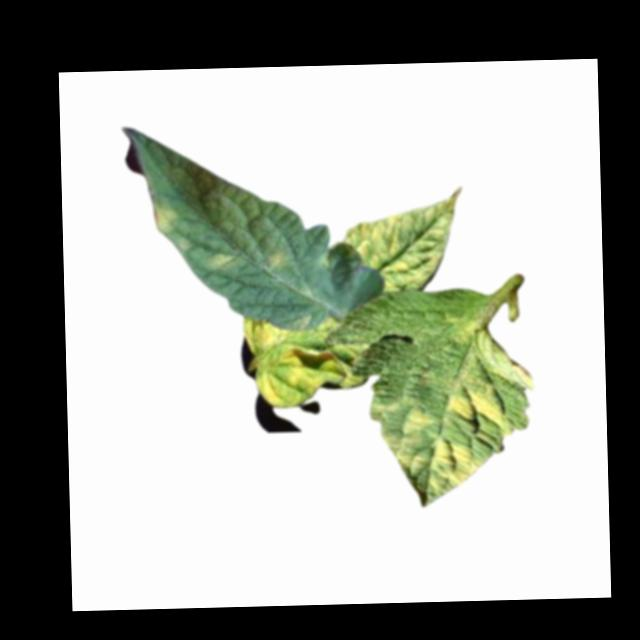Leaf_Mold: (364, 327, 538, 509), (340, 186, 463, 293), (253, 346, 346, 409), (238, 314, 285, 354), (148, 201, 183, 235), (201, 248, 241, 276), (262, 247, 289, 274)
